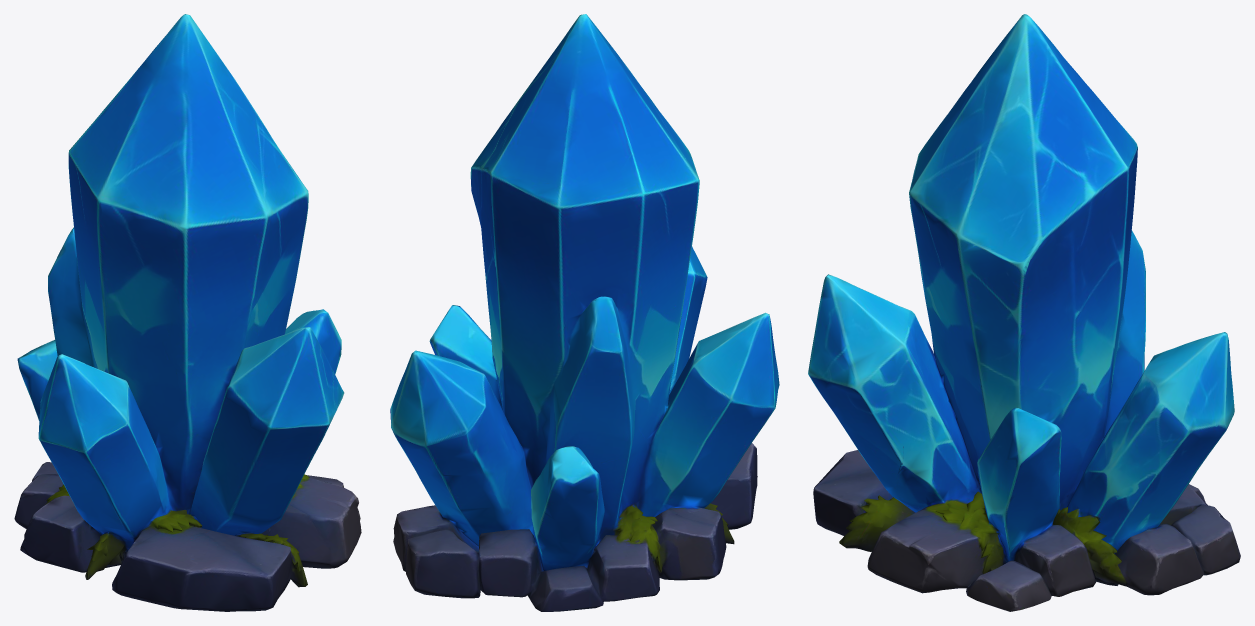
The model's file is crystal_shard.glb.
3 views of the same model, side by side, from view 1: azimuth 30°, elevation 25°; view 2: azimuth 150°, elevation 25°; view 3: azimuth 270°, elevation 25° (orthographic).
Parts seen in each view (by area): view 1: tripo_node_bfce2d45-0a0e-423b-89f6-1955d226b6b1; view 2: tripo_node_bfce2d45-0a0e-423b-89f6-1955d226b6b1; view 3: tripo_node_bfce2d45-0a0e-423b-89f6-1955d226b6b1.
Boxes of the visible parts, x1,y1,x2,y2 form: tripo_node_bfce2d45-0a0e-423b-89f6-1955d226b6b1: [14, 14, 361, 611]; tripo_node_bfce2d45-0a0e-423b-89f6-1955d226b6b1: [390, 14, 779, 611]; tripo_node_bfce2d45-0a0e-423b-89f6-1955d226b6b1: [808, 14, 1240, 611].
Size of the model in its own units: 0.6478 by 1 by 0.7476.
Materials: 1 (1 with a texture image).
